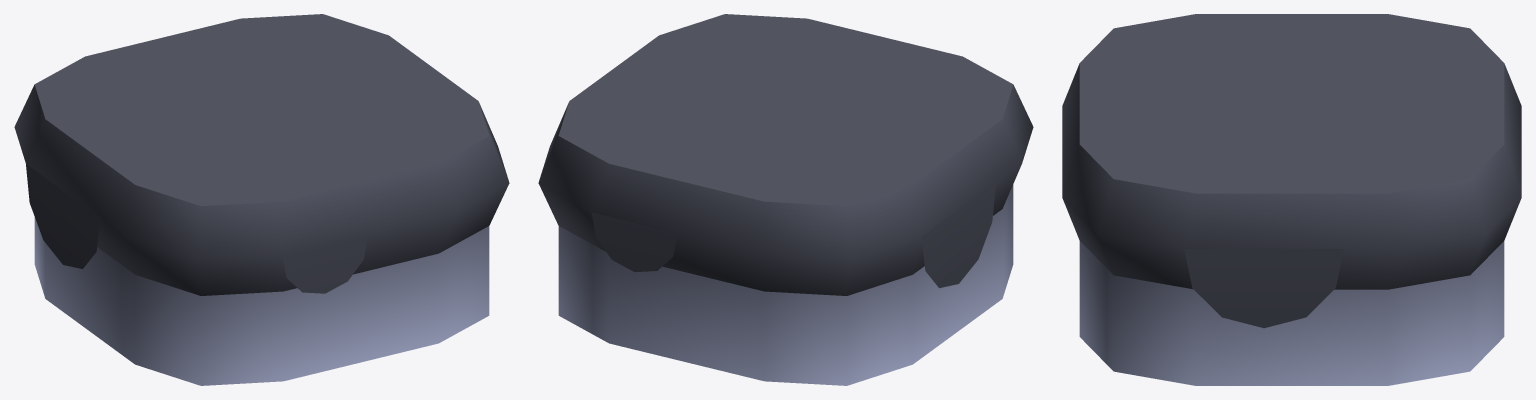
The model's file is block-snow-overhang-low.glb.
3 renders of one model, left to right at view 1: azimuth 30°, elevation 25°; view 2: azimuth 150°, elevation 25°; view 3: azimuth 270°, elevation 25°, orthographic. The views are drawn at different scales.
Visible parts, largest first — view 1: block-snow-overhang-low; view 2: block-snow-overhang-low; view 3: block-snow-overhang-low.
Part boxes in pixels (box(x1,y1,x2,y2)): block-snow-overhang-low: box(14, 14, 509, 385); block-snow-overhang-low: box(538, 14, 1033, 385); block-snow-overhang-low: box(1062, 14, 1521, 385).
Size of the model in its own units: 1.08 by 0.5 by 1.08.
